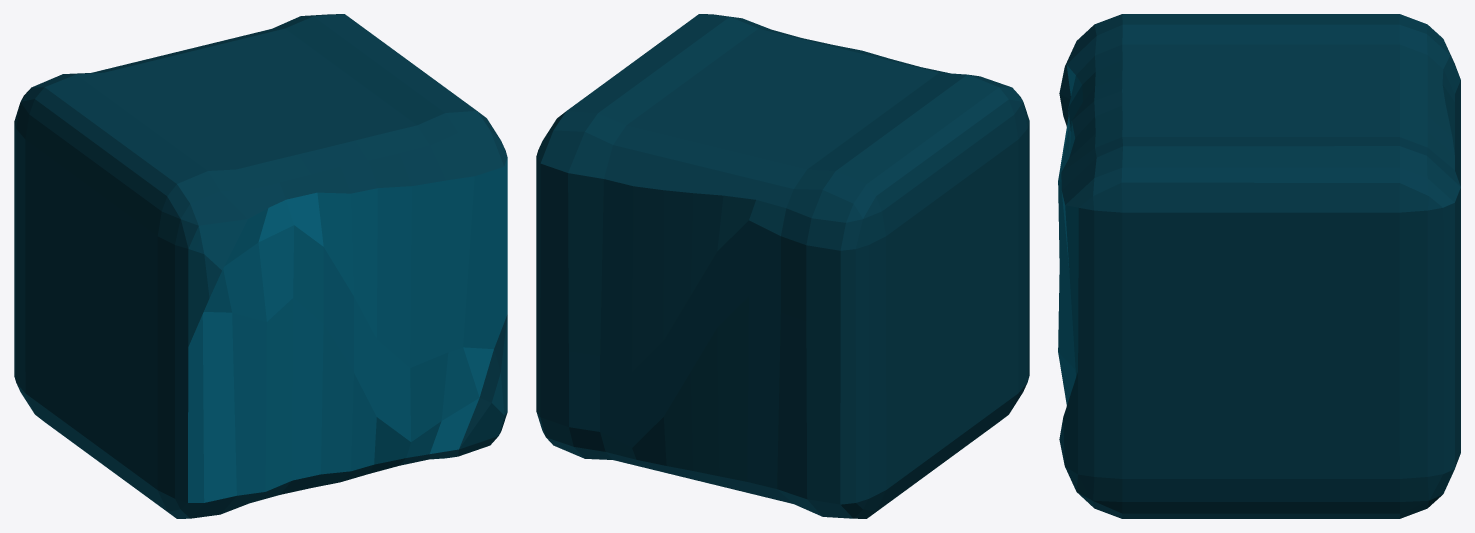
The model's file is smallbluebutton.fbx.
3 views of the same model, side by side, from view 1: azimuth 30°, elevation 25°; view 2: azimuth 150°, elevation 25°; view 3: azimuth 270°, elevation 25° (orthographic). The views are drawn at different scales.
Visible parts, largest first — view 1: pCube5; view 2: pCube5; view 3: pCube5.
Boxes of the visible parts, left/top/right/bottom form: pCube5: left=14, top=14, right=507, bottom=518; pCube5: left=536, top=14, right=1029, bottom=518; pCube5: left=1058, top=14, right=1460, bottom=518.
Bounding box in the file's own units: 1.06 × 1.03 × 1.04.
